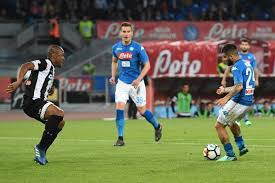soccer player: (6, 45, 71, 165), (107, 20, 163, 148), (214, 45, 251, 161)
soccerball: (202, 143, 222, 161)
